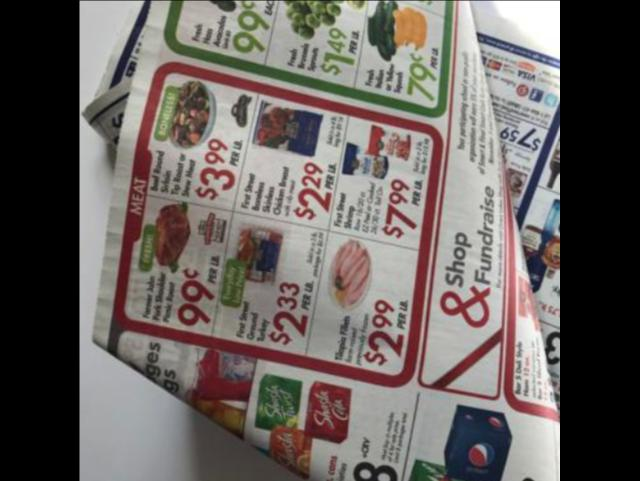cardboard paper: (97, 0, 560, 481)
